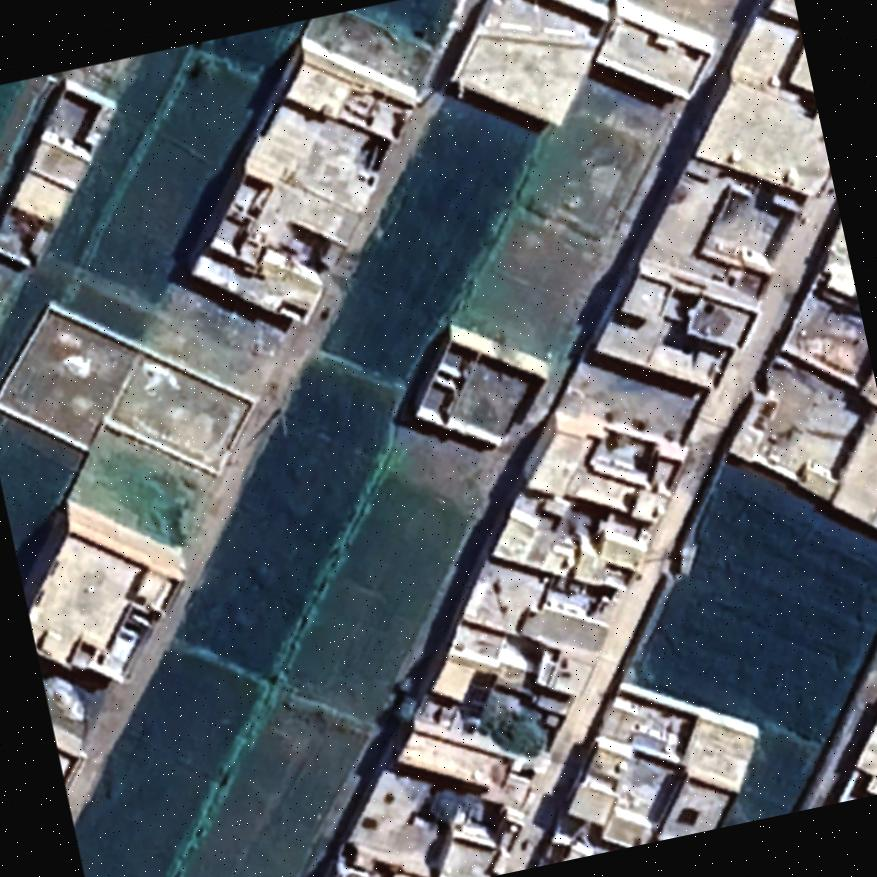Solarpanel: (457, 671, 496, 727)
